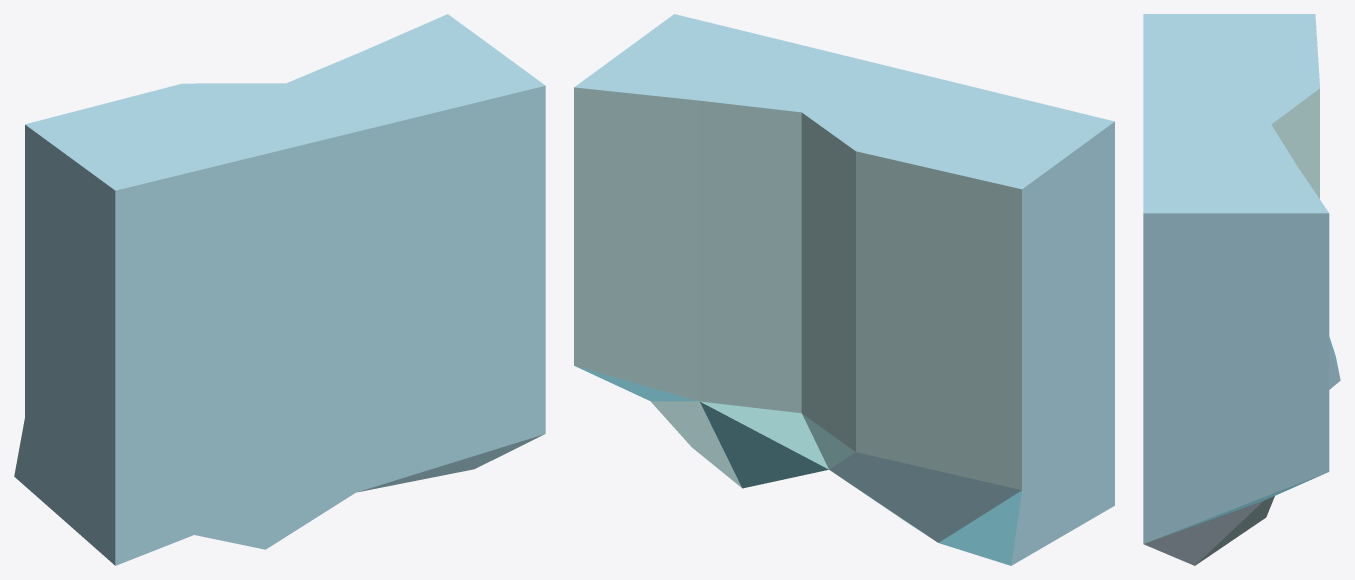
File: guard_winter_1.fbx
3 views of the same model, side by side, from view 1: azimuth 30°, elevation 25°; view 2: azimuth 150°, elevation 25°; view 3: azimuth 270°, elevation 25° (orthographic). The views are drawn at different scales.
Visible parts, largest first — view 1: Cube.009; view 2: Cube.009; view 3: Cube.009.
Boxes of the visible parts, x1,y1,x2,y2 form: Cube.009: (14, 14, 545, 565); Cube.009: (574, 14, 1114, 565); Cube.009: (1143, 14, 1340, 565).
Size of the model in its own units: 1019 by 895 by 426.
